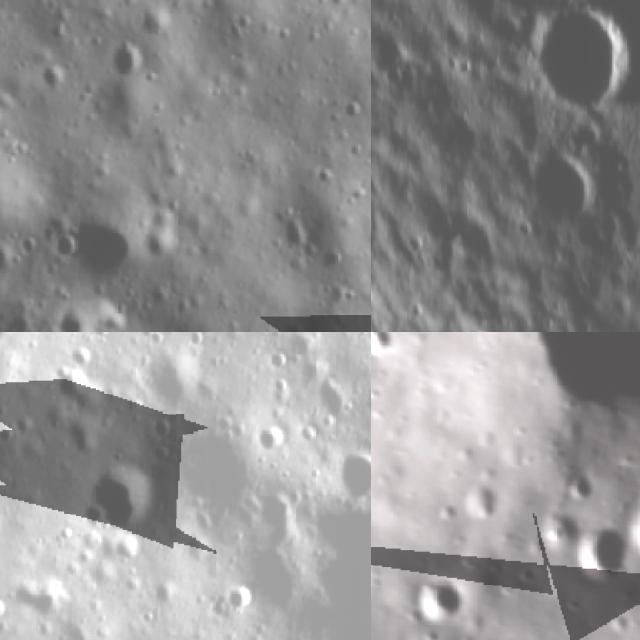crater: (529, 0, 640, 121), (513, 332, 640, 432), (518, 150, 612, 243), (170, 427, 252, 521), (72, 216, 144, 293), (85, 467, 165, 534), (0, 145, 40, 276), (144, 352, 206, 418), (256, 496, 310, 556), (574, 526, 628, 586), (243, 558, 304, 611), (412, 576, 474, 623), (102, 34, 147, 94), (306, 374, 352, 426), (62, 414, 100, 466), (460, 479, 501, 527), (333, 452, 371, 503), (254, 424, 293, 462), (566, 467, 597, 506), (625, 499, 640, 563), (227, 589, 255, 615), (264, 350, 292, 376), (371, 332, 396, 361), (0, 593, 15, 632)
